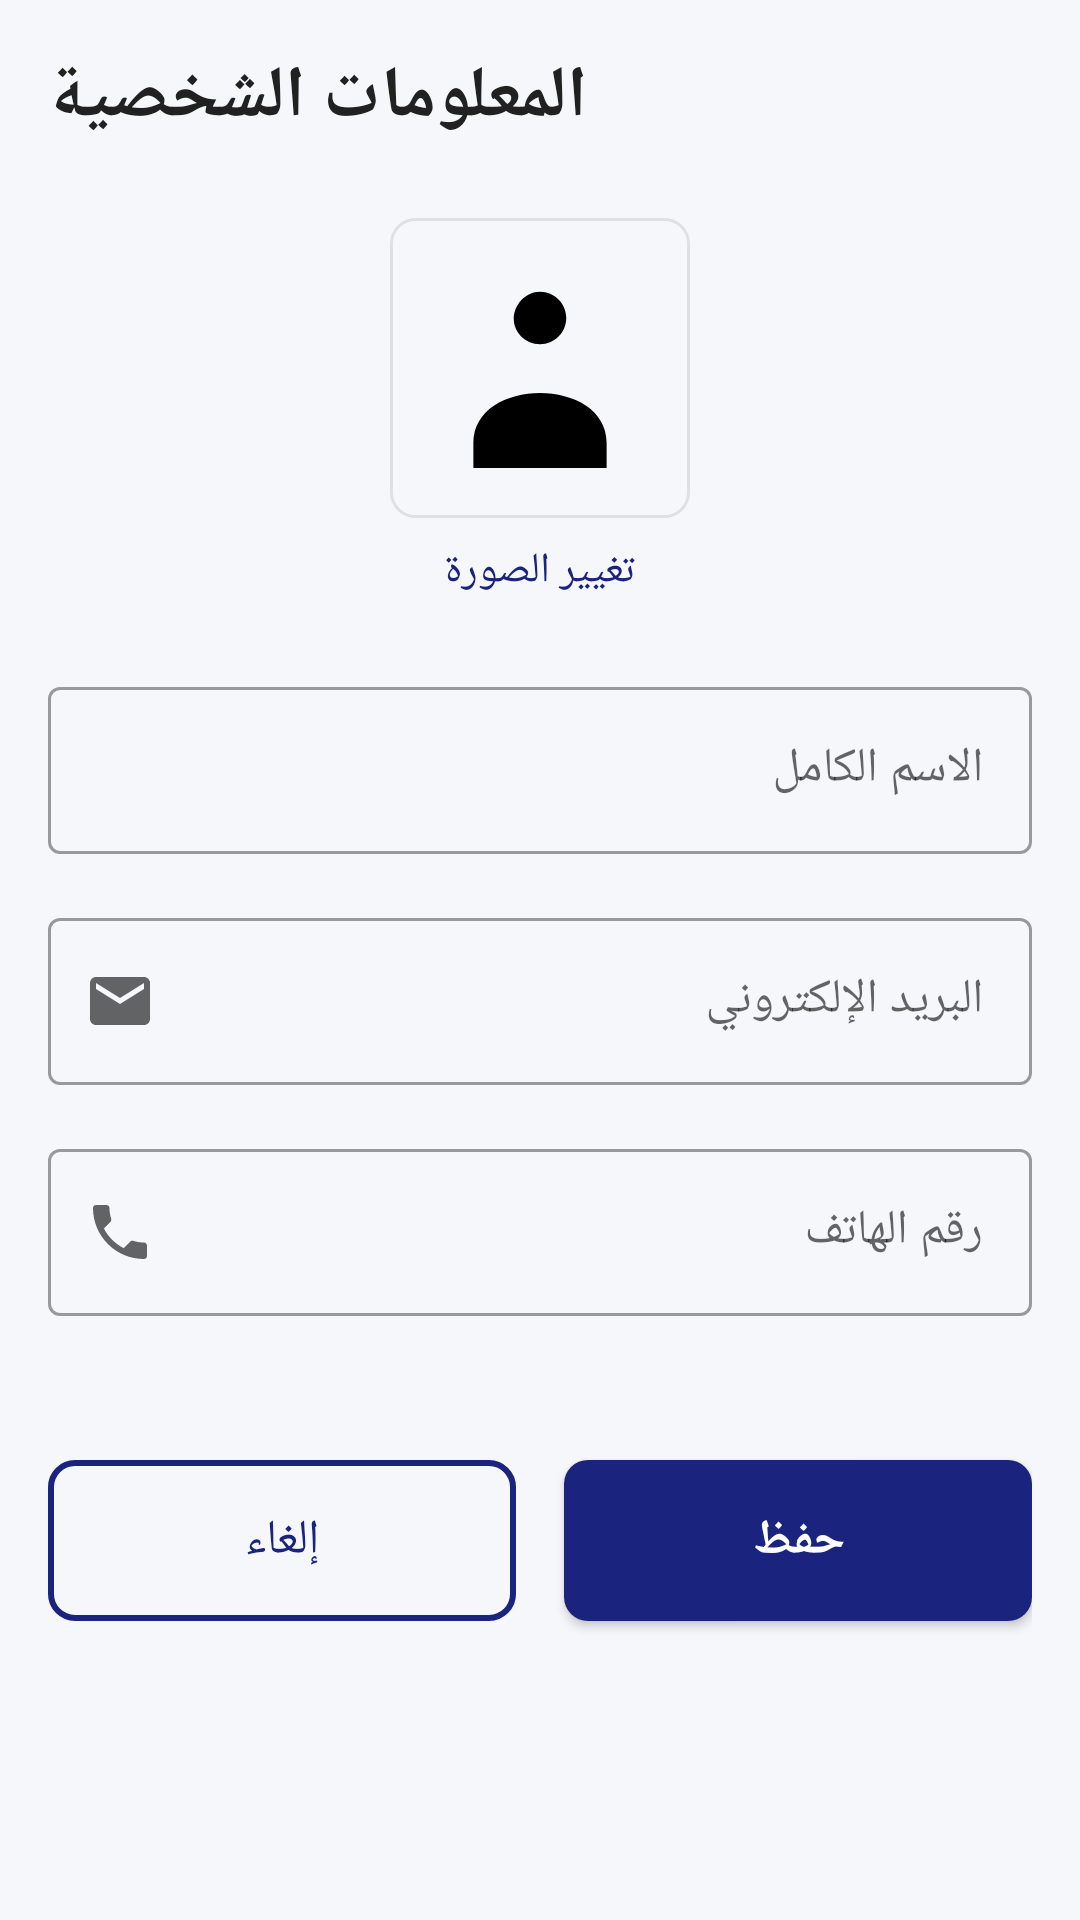

Named icons in this screenshot (1080*1920) and their bounding boxes, BBox(x1, y1, x2, y2):
صورة المستخدم: BBox(390, 218, 690, 518)
